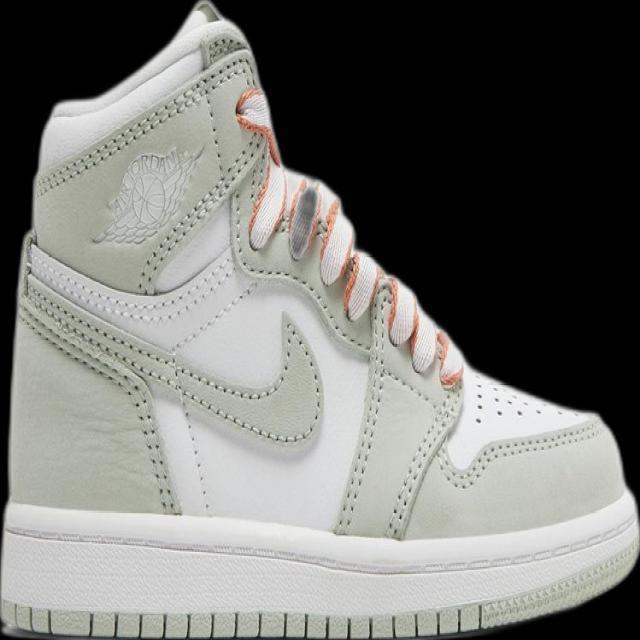J1_InsoleChar: (0, 0, 638, 639)
J1_ShoeLogo: (90, 143, 206, 247)
J1_StitchPattern: (0, 518, 638, 639), (232, 84, 464, 387), (16, 262, 324, 448), (16, 271, 184, 516), (331, 275, 464, 540), (34, 50, 258, 197), (1, 601, 488, 639), (331, 279, 390, 537), (384, 379, 464, 540), (437, 415, 604, 491)
